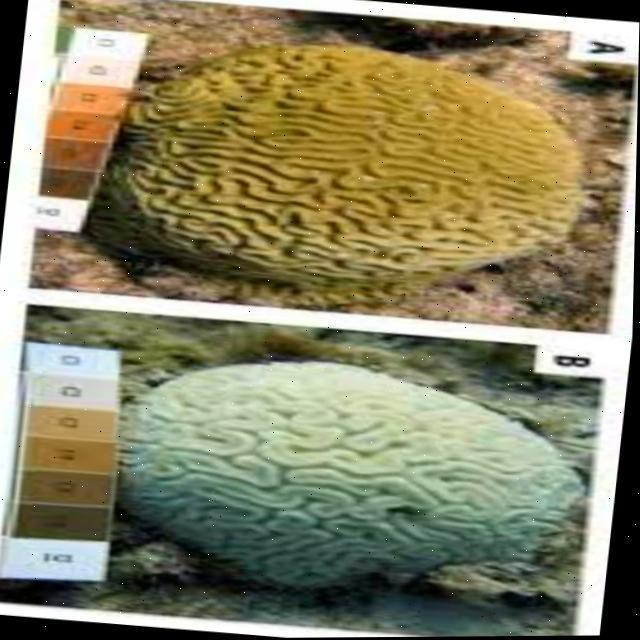Bleached Coral: (144, 367, 572, 608)
Healthy Coral: (134, 24, 574, 282)
